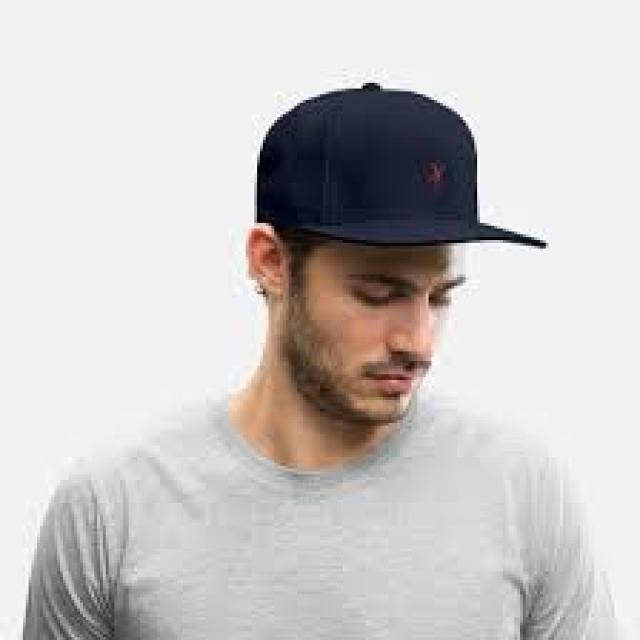cap: (209, 80, 580, 343)
